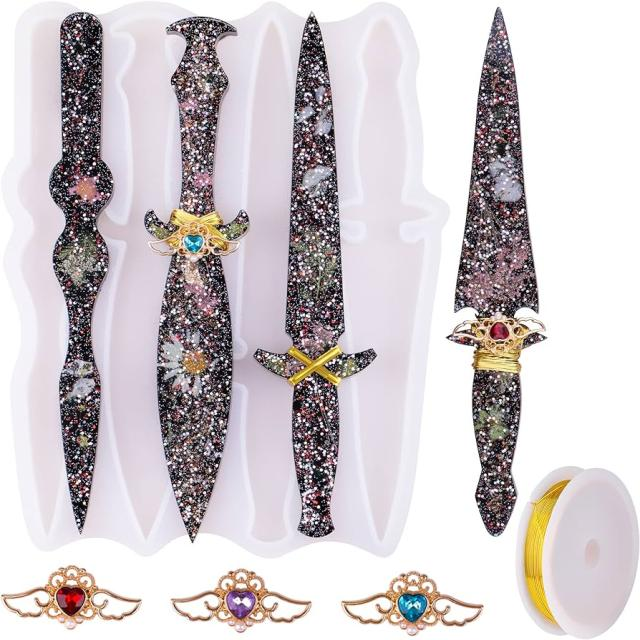Gun: (29, 13, 128, 546), (274, 9, 374, 522), (444, 15, 539, 541), (154, 10, 245, 550)
